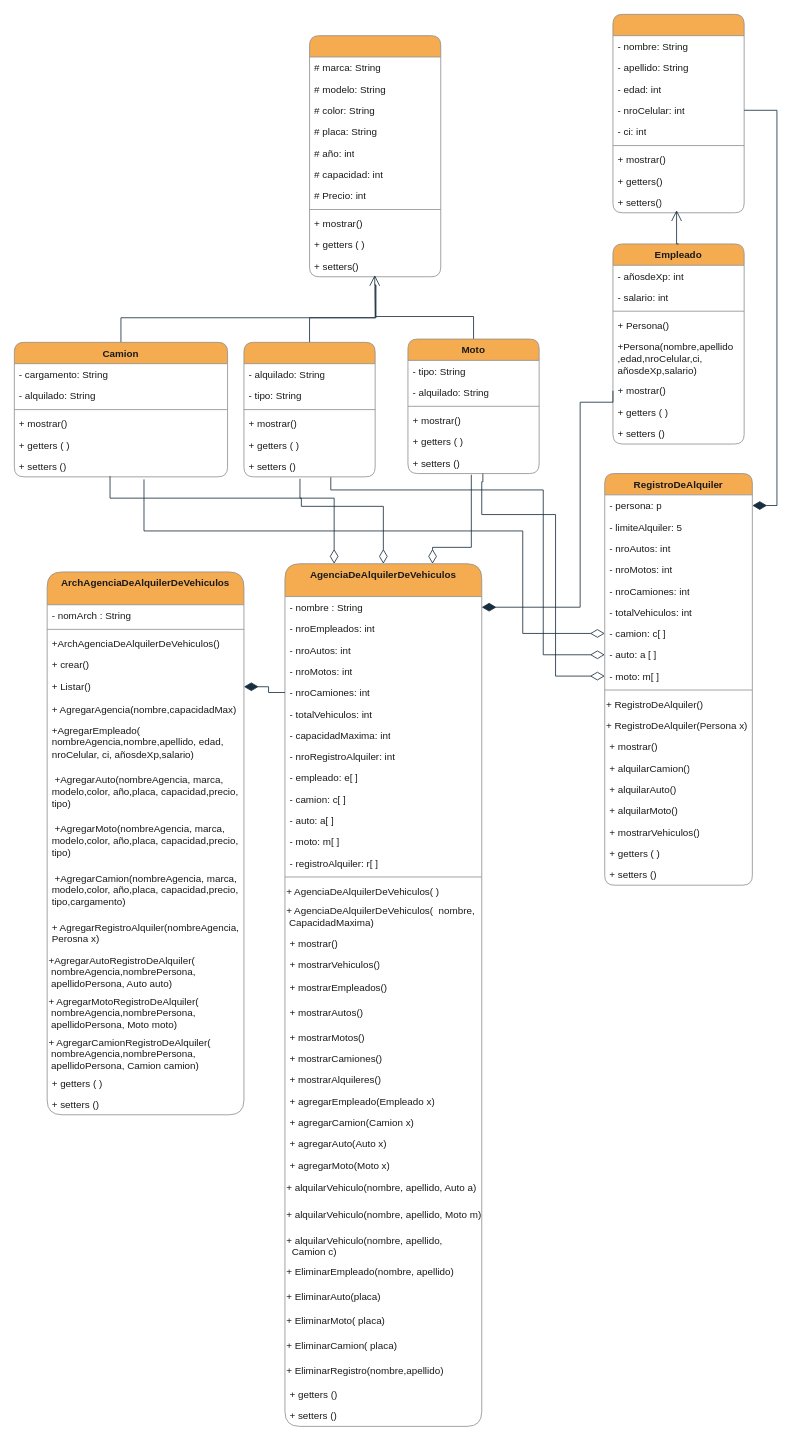
Some shapes in this 805 by 1443 pixel diagram are drawn without their labels. The shapes that lost their labels are listed below. From the top down, each one's box as (x1, y1, x2, y2) in pixels, then its label:
(612, 14, 744, 213): Persona
(309, 35, 441, 277): Vehiculo
(243, 342, 375, 477): Auto
